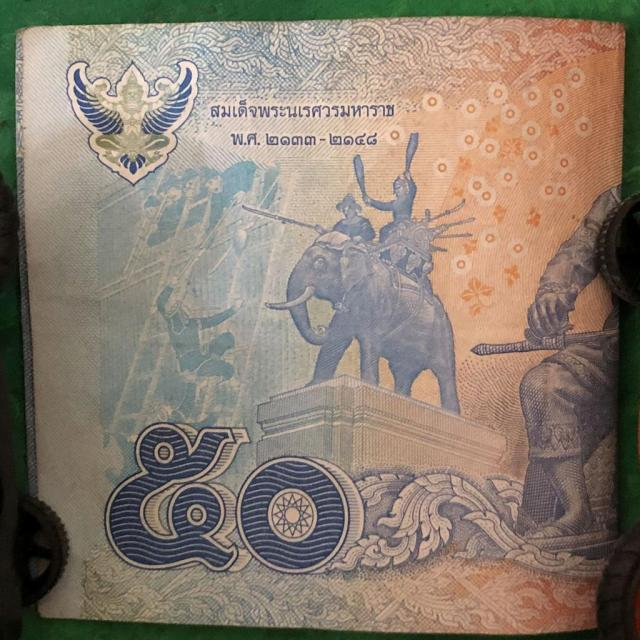THAI50: (16, 17, 638, 634)
